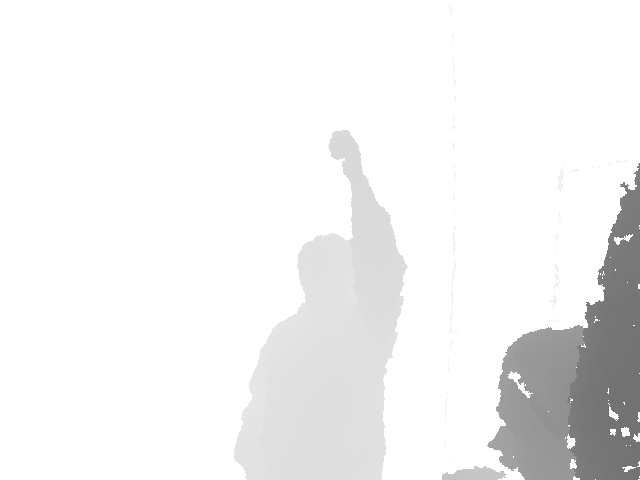hand: (329, 129, 362, 171)
head: (295, 232, 364, 309)
person: (232, 129, 410, 480)
